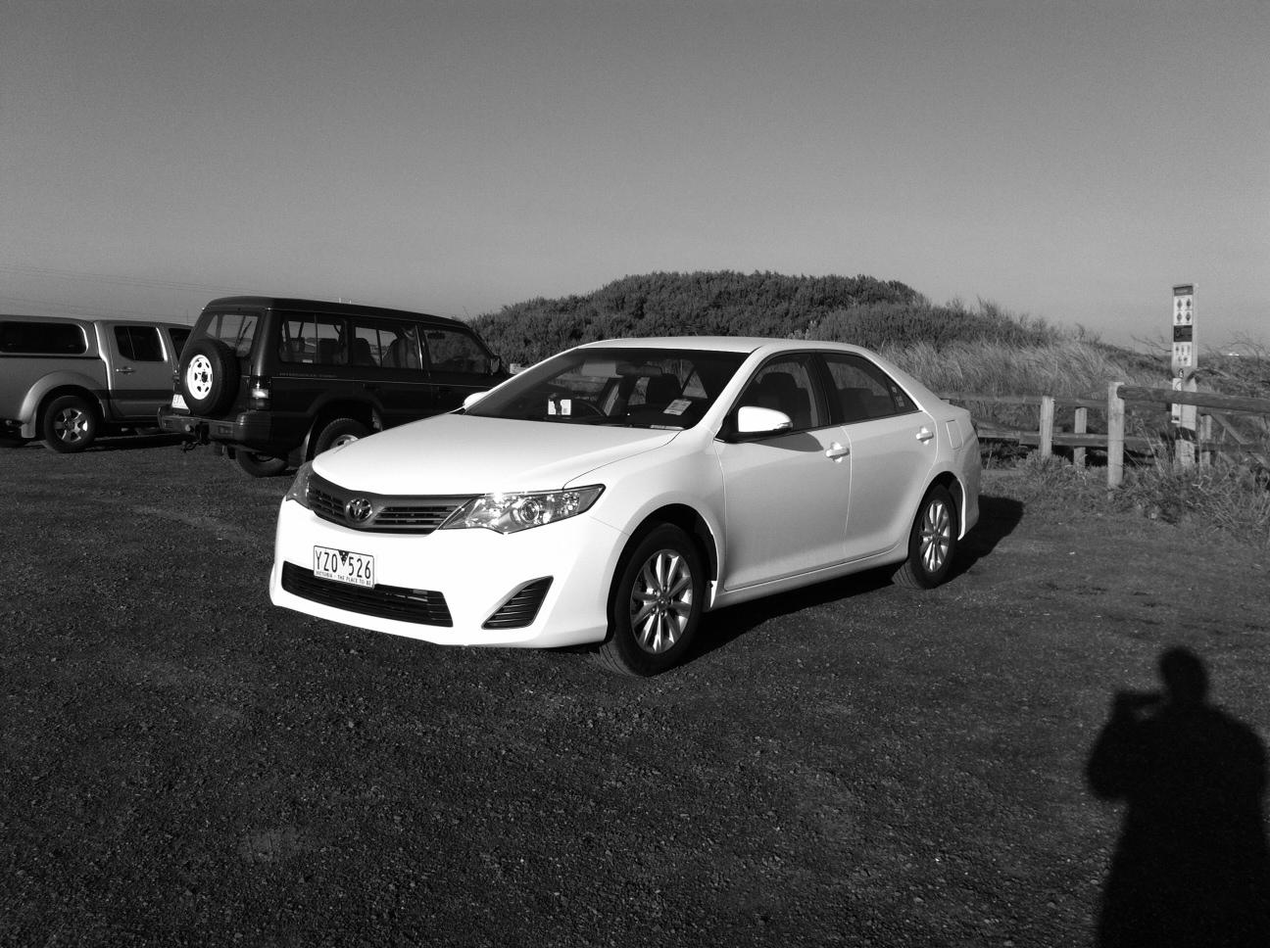car: (264, 328, 991, 688)
